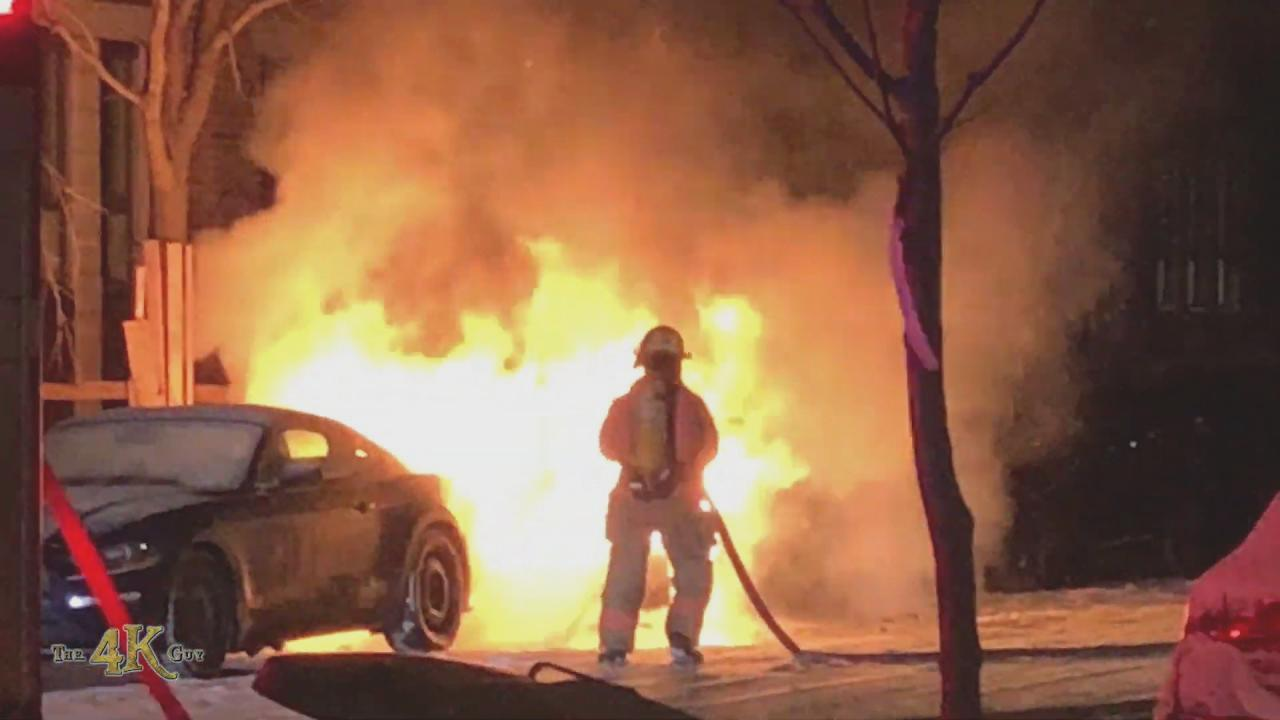Fire: (255, 239, 646, 653), (680, 291, 788, 652)
